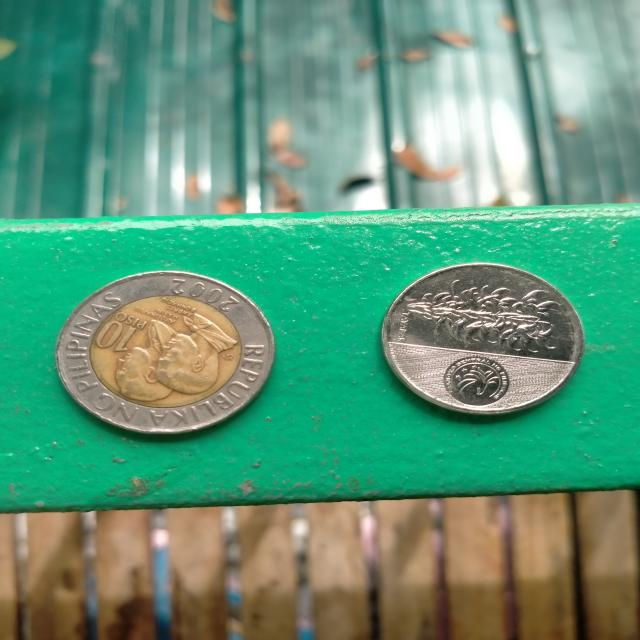10_Old_Front: (93, 308, 154, 362)
5_New_Back: (408, 280, 558, 352)
